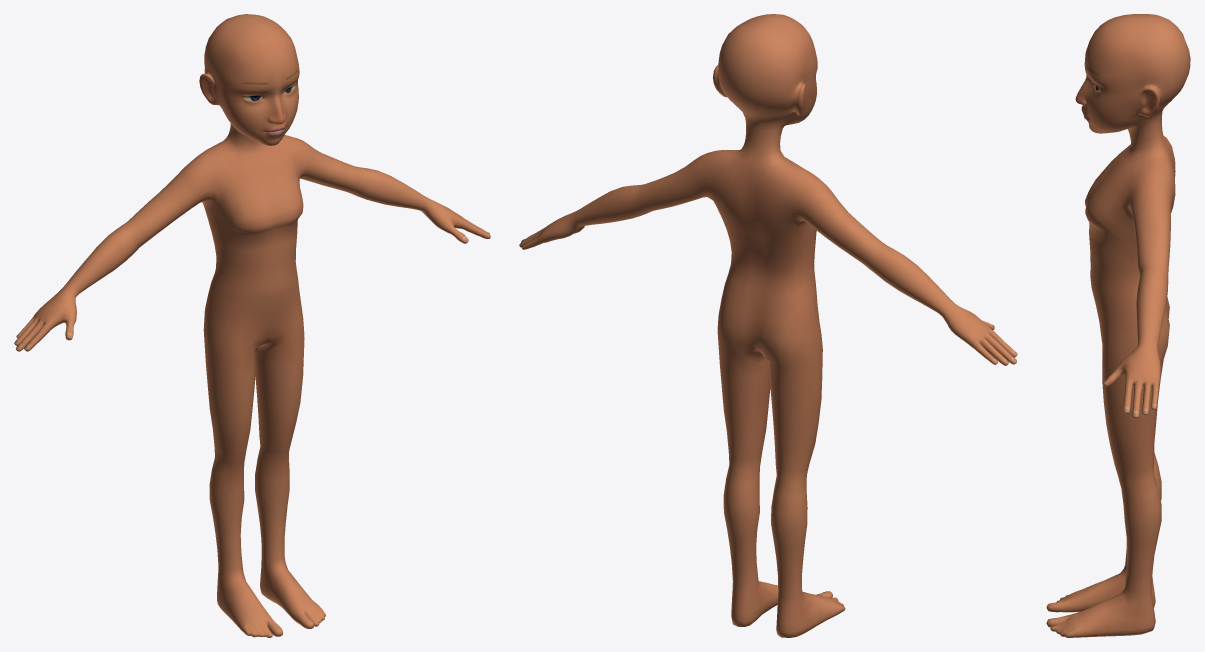
Rendered from frame_0016.glb.
3 views of the same model, side by side, from view 1: azimuth 30°, elevation 25°; view 2: azimuth 150°, elevation 25°; view 3: azimuth 270°, elevation 25° (orthographic). The views are drawn at different scales.
Visible parts, largest first — view 1: frame_0016_head_geo; view 2: frame_0016_head_geo; view 3: frame_0016_head_geo.
Part boxes in pixels (<box>): frame_0016_head_geo: <box>14,14,490,637</box>; frame_0016_head_geo: <box>519,14,1017,637</box>; frame_0016_head_geo: <box>1046,14,1190,637</box>.
Size of the model in its own units: 1.28 by 1.5 by 0.3253.
Materials: 3 (3 with a texture image).
